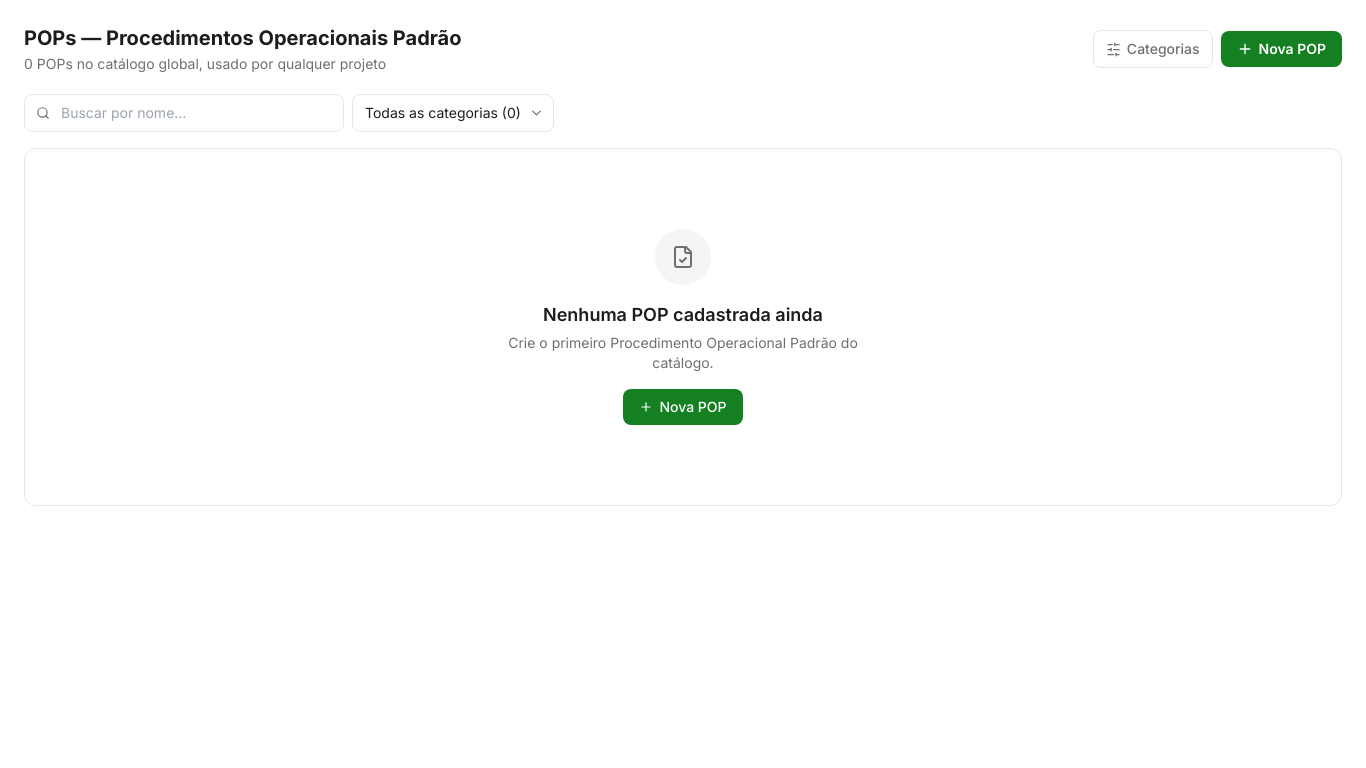
PopsClient form › should prepend the created POP to the list and close the form
Click the button "Nova POP" next to "Categorias".
click(1281, 49)  # box [1221, 31, 1342, 67]
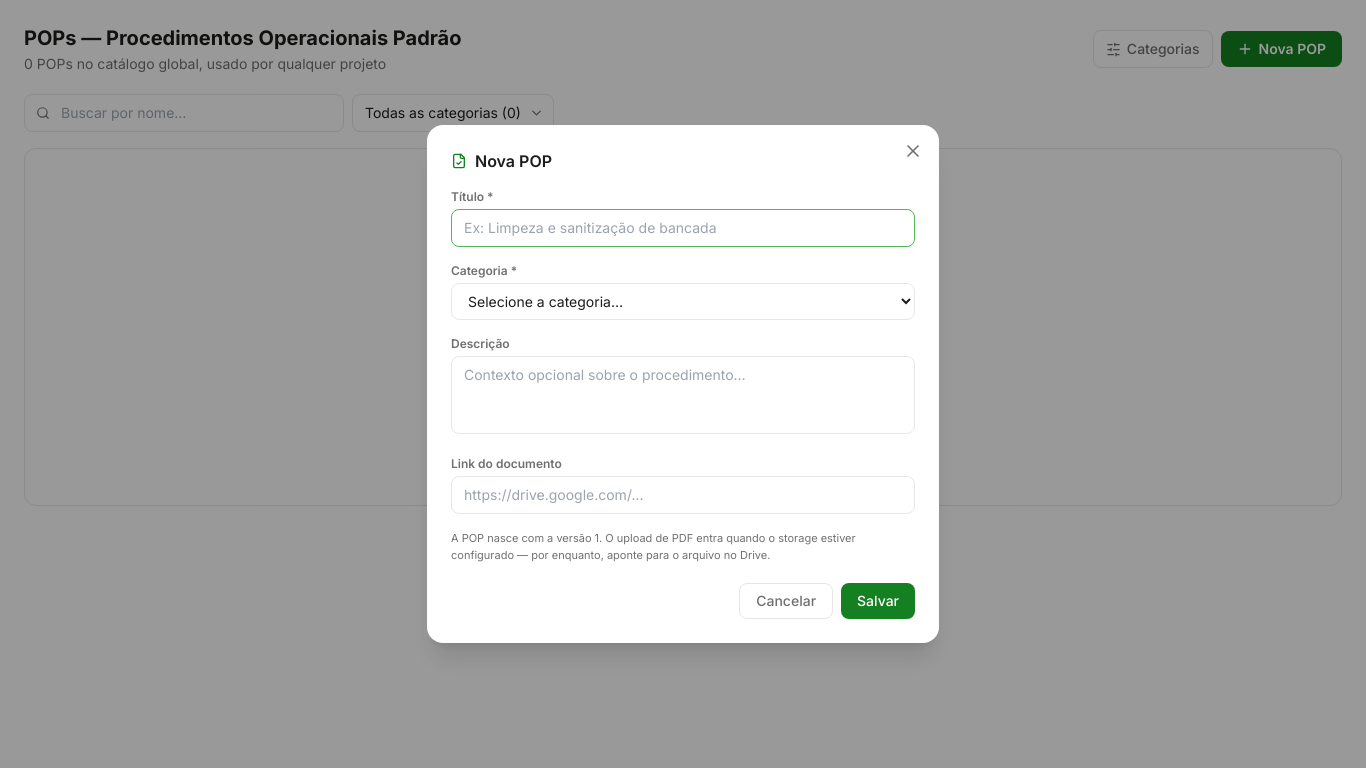
Expected: the field labelled "Título *" is shown
Type "Limpeza de bancada" into the field labelled "Título *".
click(683, 228); type("Limpeza de bancada")  # box [451, 209, 915, 247]
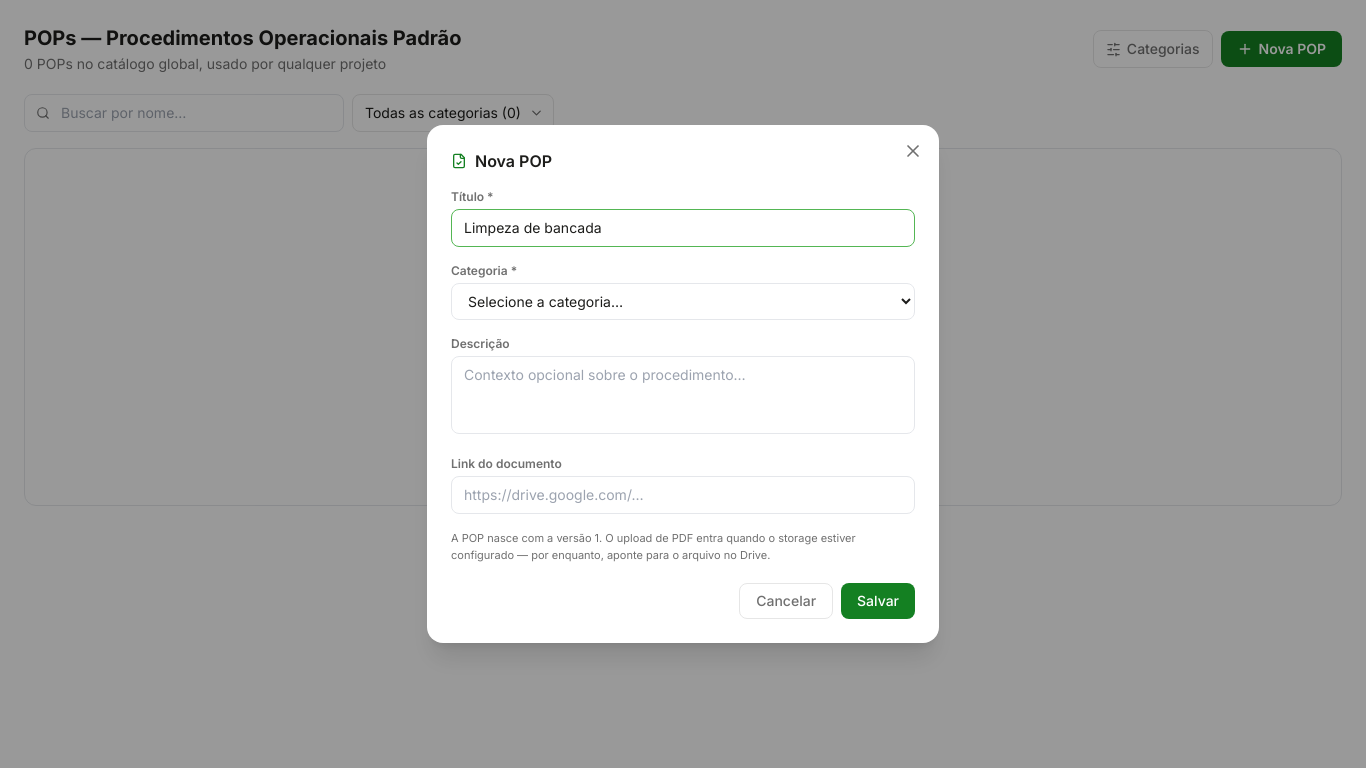
Select "Qualidade" in the dropdown labelled "Categoria *" at coordinates (683, 302), box [451, 283, 915, 320]
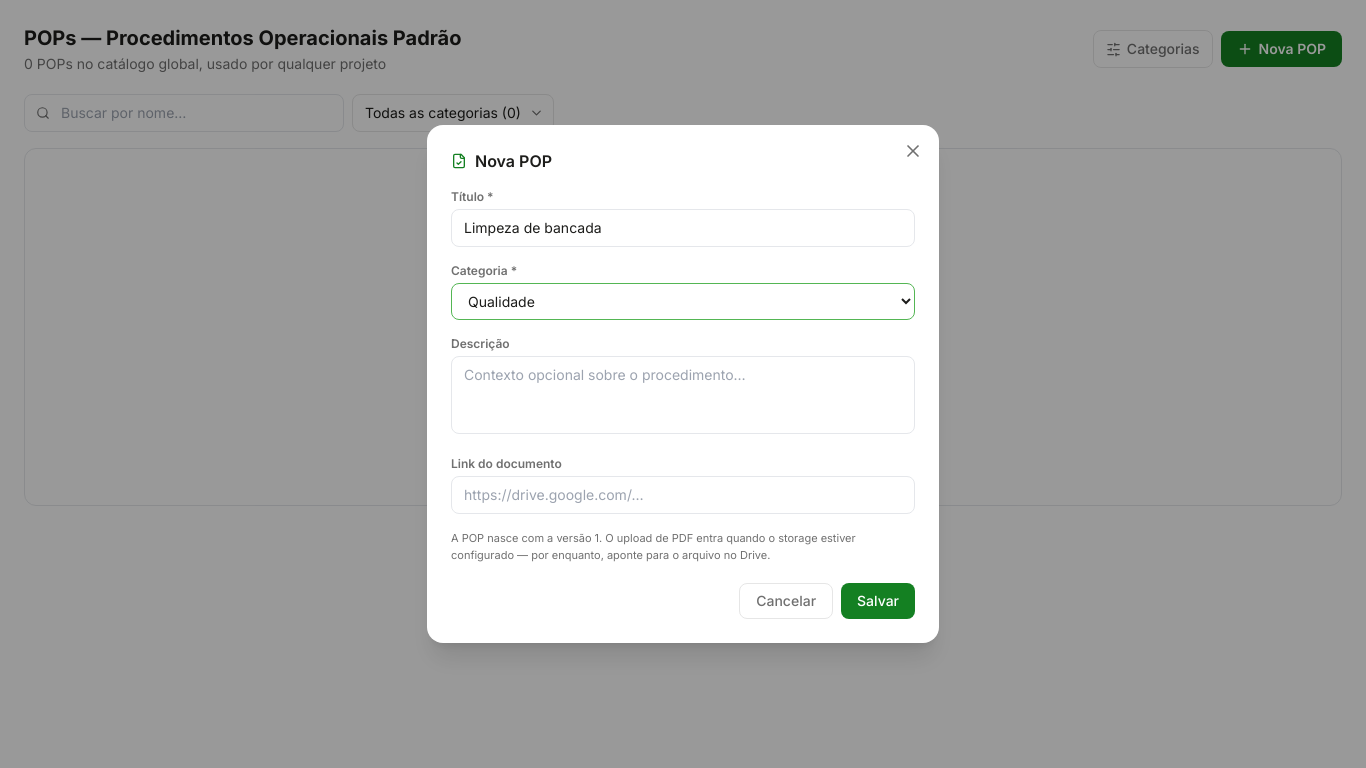
Click the button "Salvar".
click(878, 601)  # box [841, 583, 915, 619]
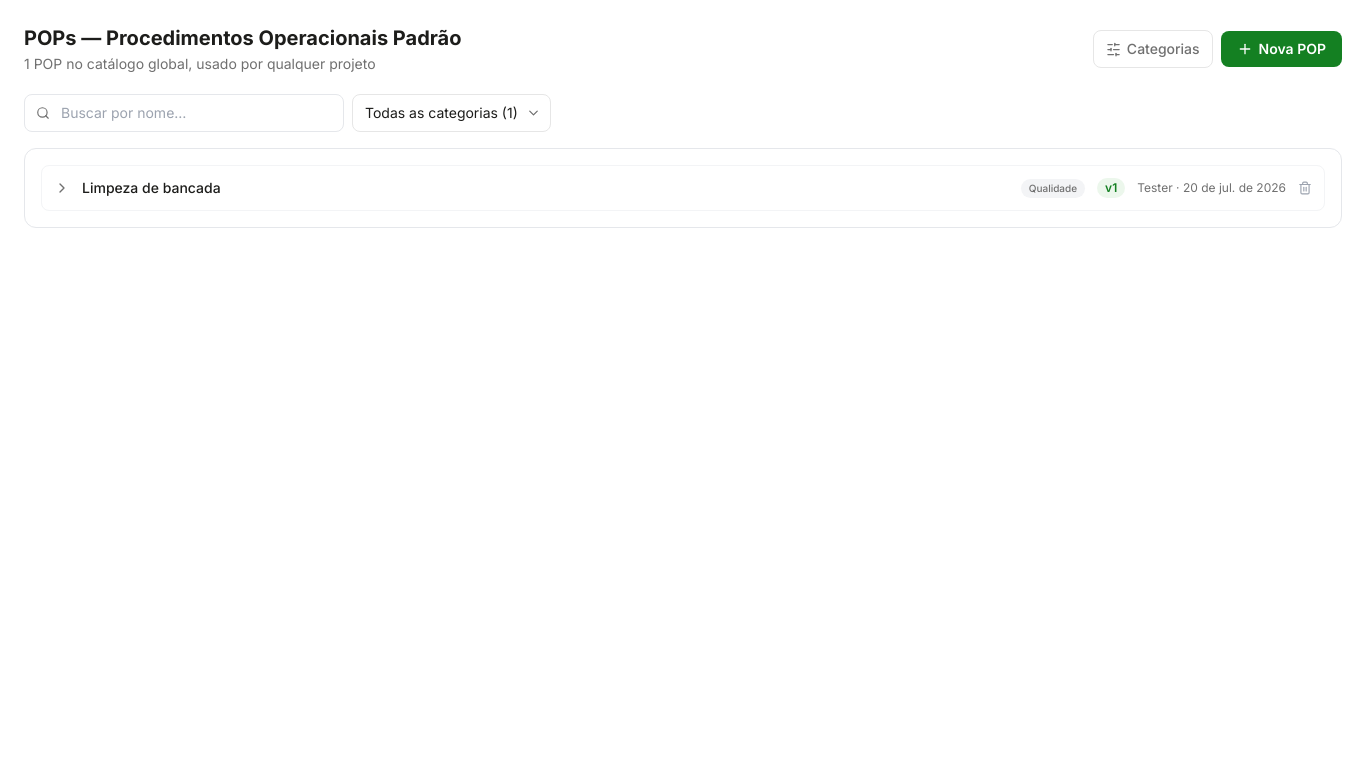
Expected: the text "Limpeza de bancada" is shown, [82, 179, 221, 196]
Expected: the label labelled "Título *" is gone
